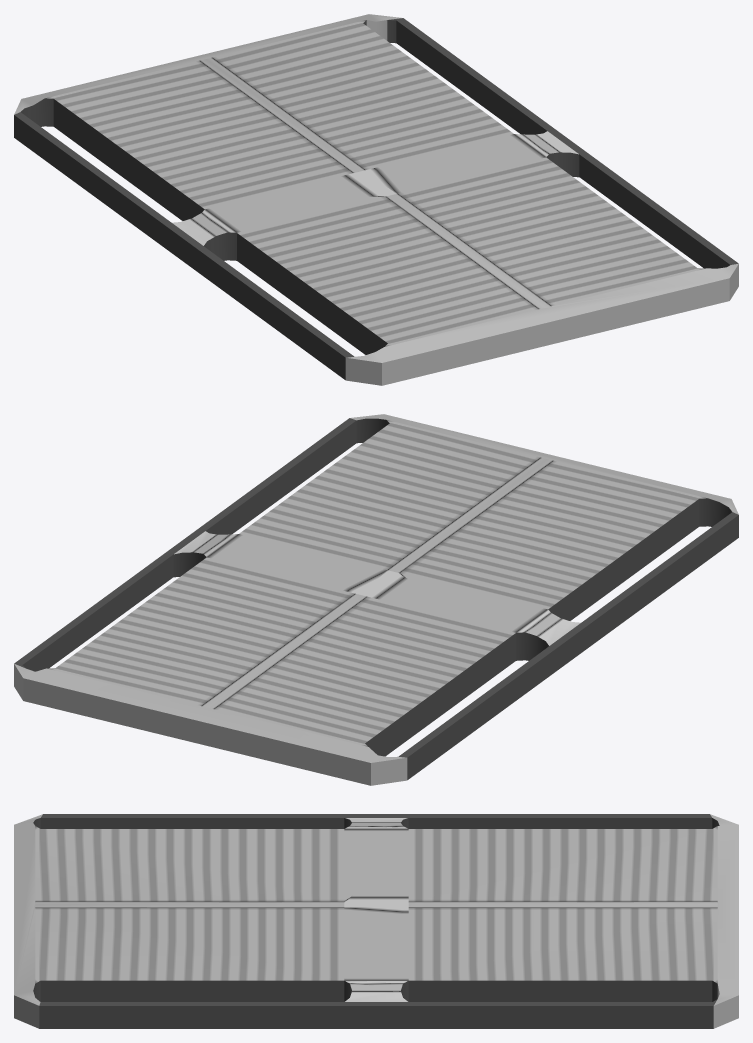
The model's file is Platform2.fbx.
3 renders of one model, top to bottom at view 1: azimuth 30°, elevation 25°; view 2: azimuth 150°, elevation 25°; view 3: azimuth 270°, elevation 25°, orthographic.
Parts seen in each view (by area): view 1: floorB; view 2: floorB; view 3: floorB.
Part boxes in pixels (x1,y1,x2,y2): floorB: [14, 14, 738, 385]; floorB: [14, 414, 738, 785]; floorB: [14, 814, 738, 1028].
Size of the model in its own units: 1.24 by 0.0847 by 1.98.
